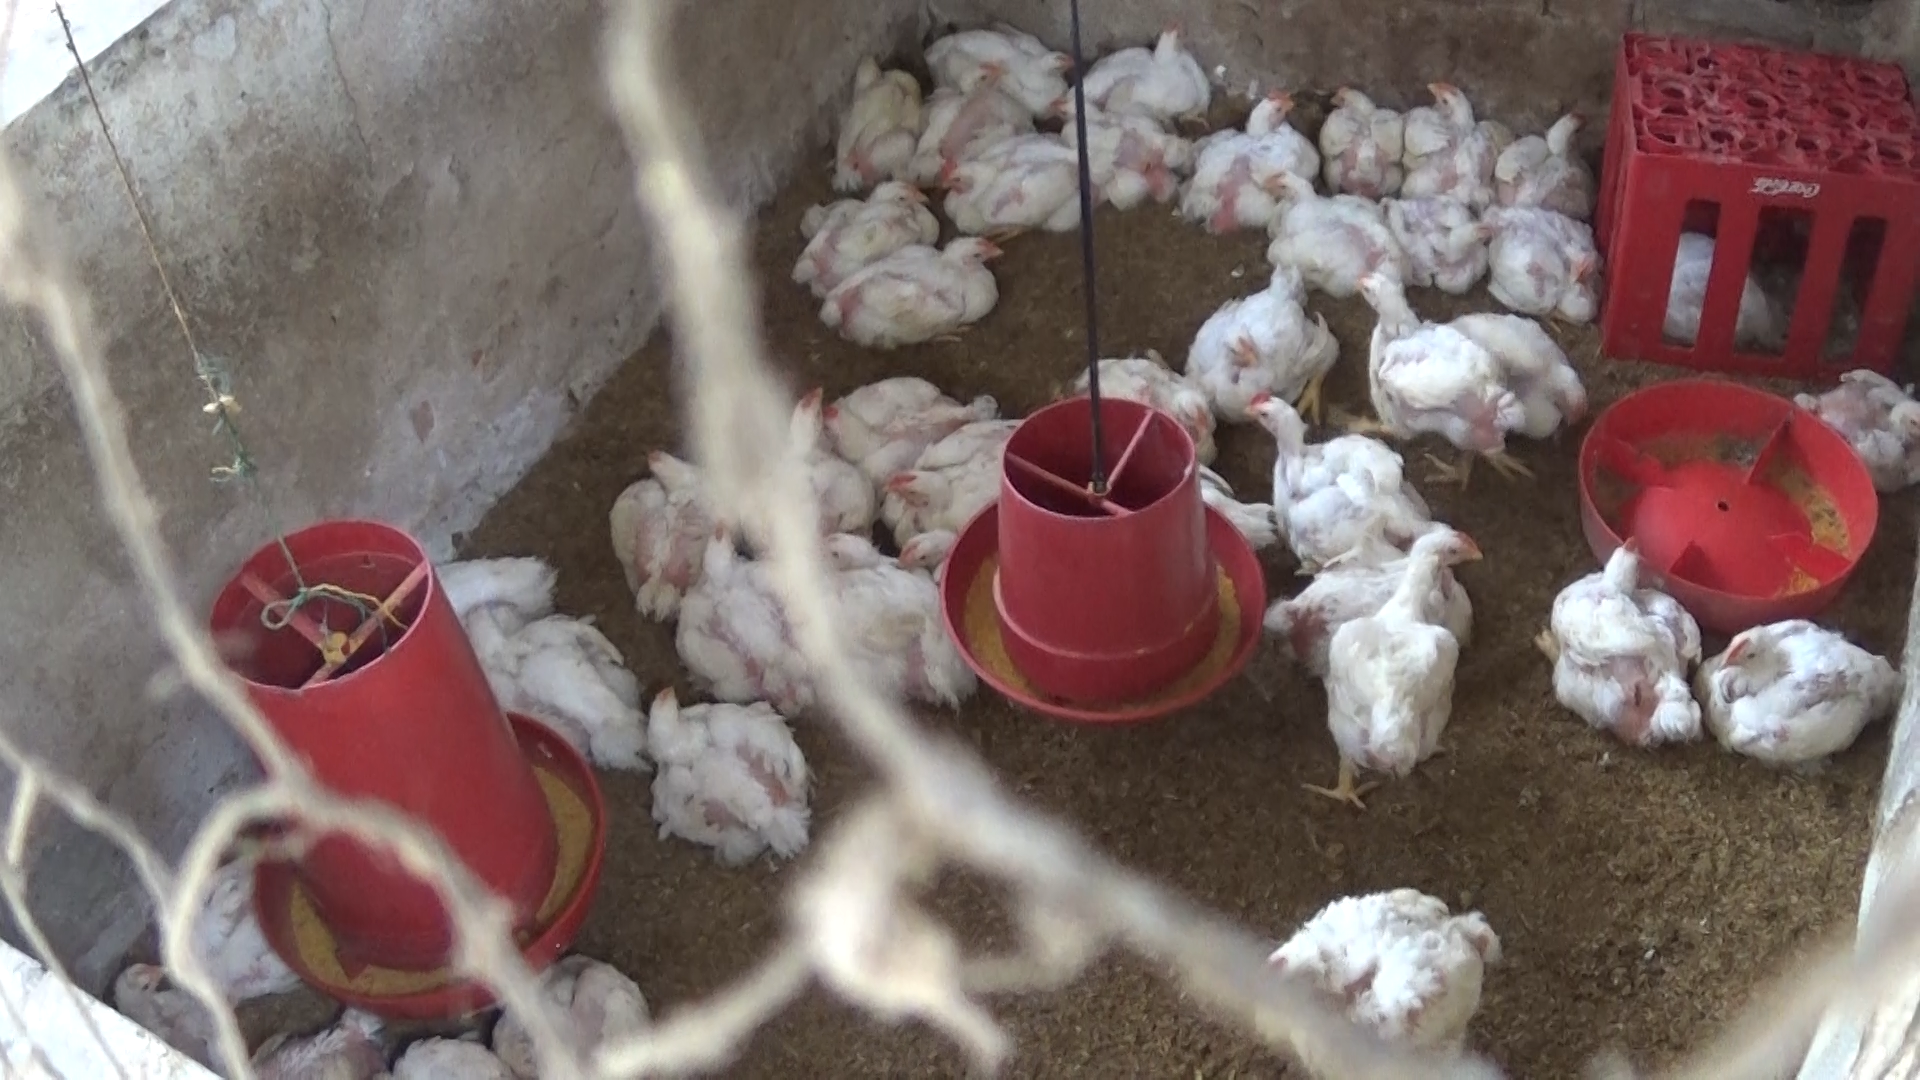Pollos: (1286, 513, 1499, 823), (1280, 877, 1522, 1052), (1348, 272, 1516, 495), (1683, 603, 1898, 771), (1540, 524, 1702, 744), (630, 676, 818, 866), (1232, 375, 1427, 554), (442, 592, 645, 760), (806, 516, 968, 723), (645, 495, 802, 702), (1162, 88, 1324, 243), (1433, 302, 1594, 454), (811, 229, 1013, 344), (591, 444, 725, 607), (884, 415, 1046, 549), (1258, 169, 1416, 297), (1207, 266, 1327, 429), (811, 368, 996, 471), (1046, 83, 1189, 214), (916, 133, 1088, 237), (1389, 67, 1518, 198), (785, 177, 944, 281), (1489, 196, 1618, 323), (1069, 4, 1228, 103), (1800, 359, 1920, 487), (1067, 342, 1212, 446), (928, 7, 1087, 102), (832, 49, 920, 204), (884, 49, 1021, 146), (1499, 104, 1621, 206), (1311, 65, 1403, 198), (1393, 171, 1490, 295), (890, 520, 971, 575)
